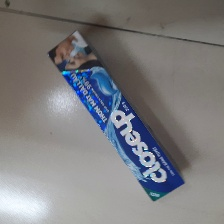CloseUp Tuyet: (47, 30, 184, 202)
